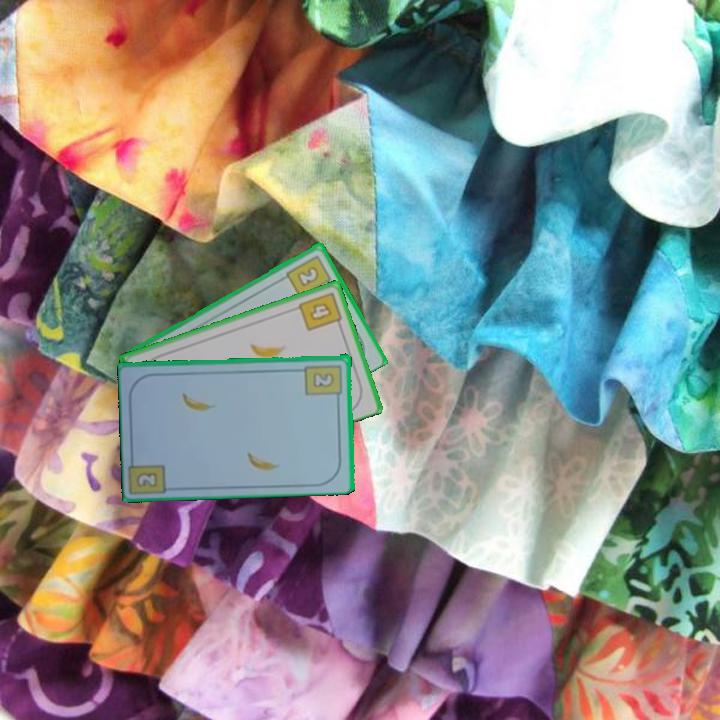2b: (283, 251, 335, 300), (302, 361, 345, 403), (133, 469, 161, 490)
4b: (295, 288, 345, 334)
